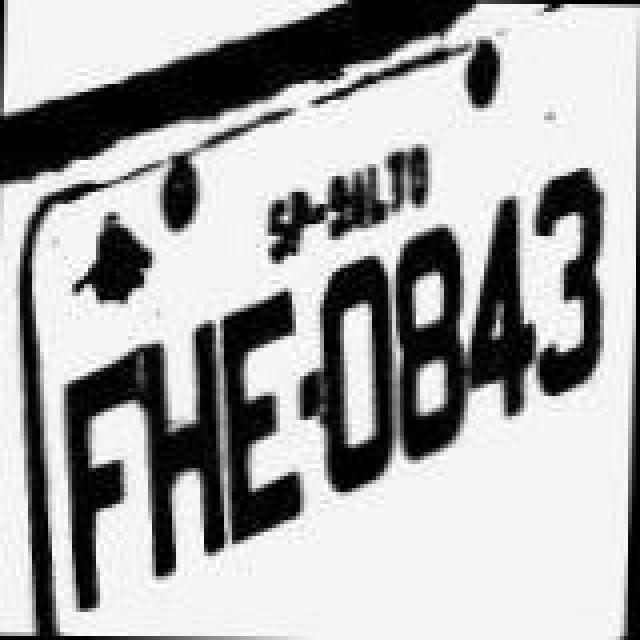3: (532, 160, 620, 400)
4: (462, 186, 546, 430)
8: (392, 218, 480, 466)
E: (216, 274, 316, 550)
F: (60, 328, 148, 624)
H: (134, 318, 234, 582)
O: (316, 244, 404, 500)
